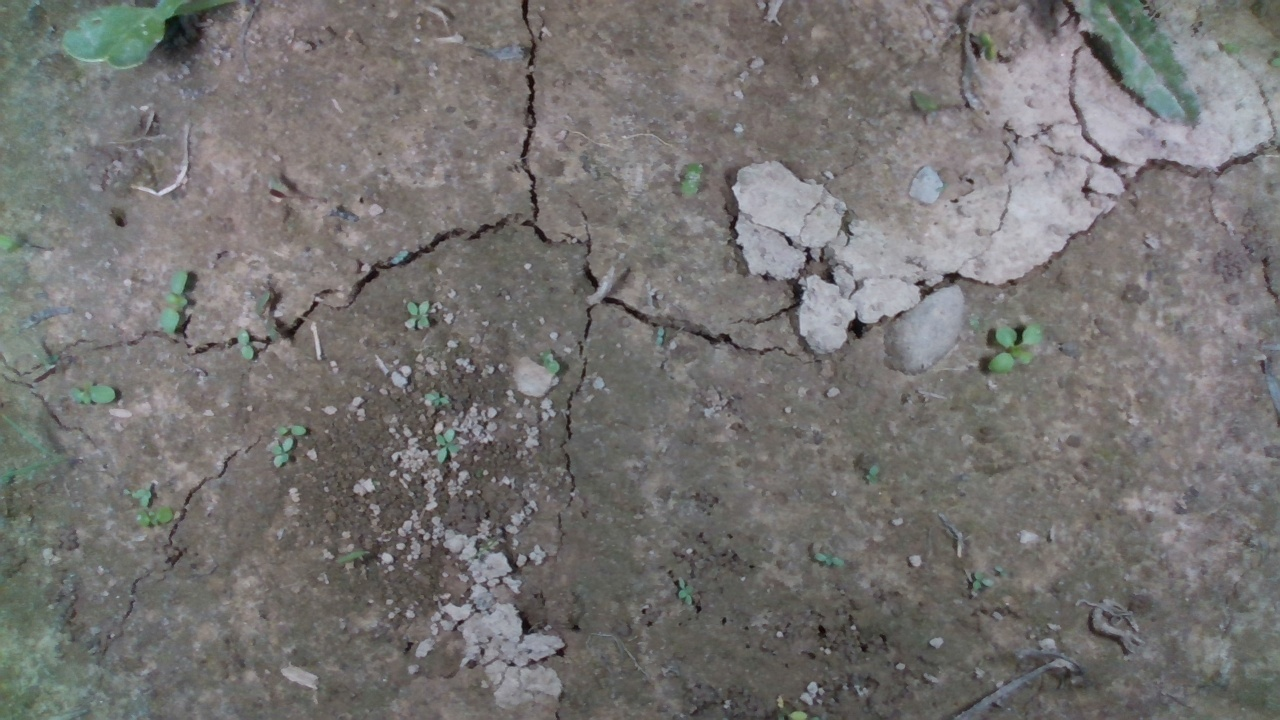weed: (398, 293, 440, 334), (538, 347, 573, 388), (228, 326, 256, 367), (64, 385, 117, 406), (813, 546, 853, 571), (266, 437, 294, 468), (427, 432, 455, 462), (134, 506, 172, 527), (863, 461, 881, 486), (273, 425, 308, 434)
